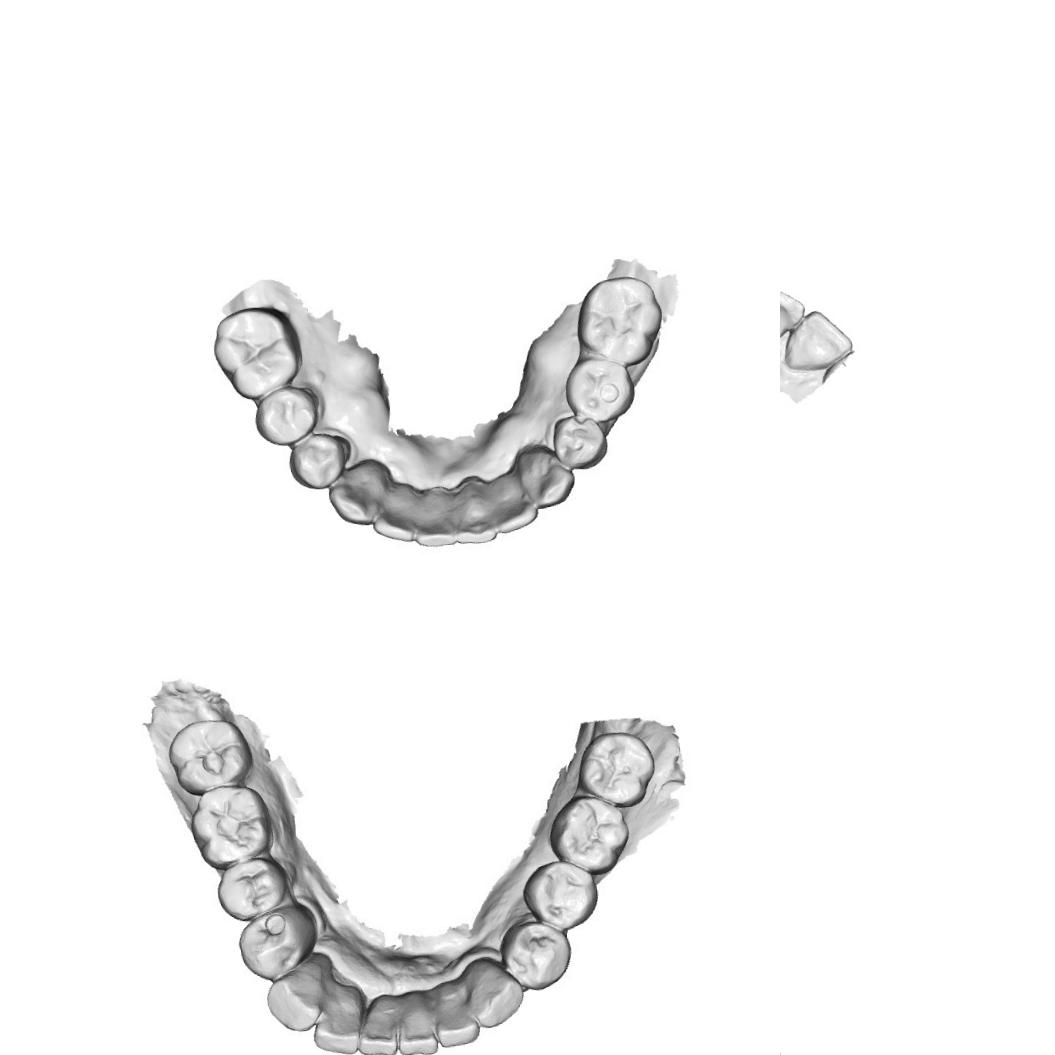canine: (258, 956, 333, 1036), (464, 955, 525, 1032), (328, 461, 391, 528), (519, 442, 573, 507)
incisor: (780, 306, 854, 373), (369, 475, 426, 545), (412, 473, 464, 542), (316, 981, 368, 1050), (428, 979, 482, 1045), (487, 472, 537, 536), (396, 986, 440, 1054), (359, 989, 401, 1055), (452, 476, 494, 538), (780, 285, 808, 347)
molar: (209, 306, 302, 400), (576, 274, 662, 368), (192, 779, 268, 870), (550, 796, 632, 876), (166, 717, 252, 793), (578, 730, 655, 810)
premolar: (233, 896, 321, 980), (520, 854, 604, 934), (500, 914, 577, 994), (212, 853, 296, 926), (568, 357, 634, 420), (256, 387, 320, 447), (554, 415, 610, 471), (292, 434, 349, 488)
